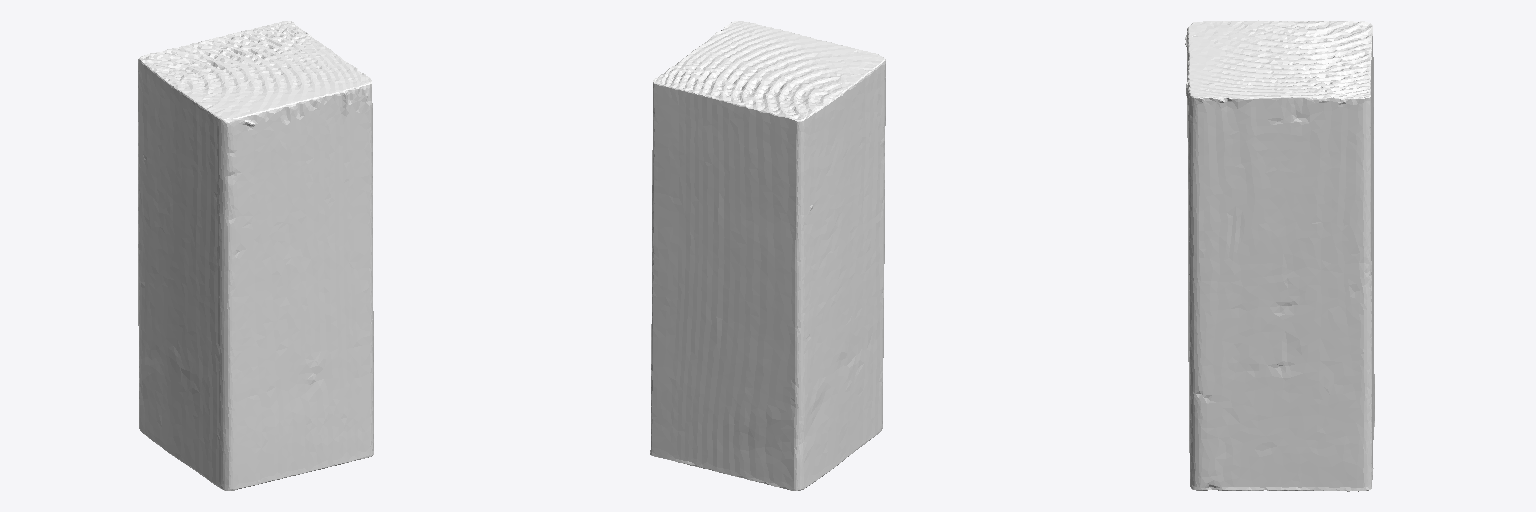
The robot description file, URDF, robot "b_colored_wood_blocks":
<robot name="b_colored_wood_blocks">
	<link name="base_link">
		<visual>
			<origin xyz="0.018821263920805856 0.008818559894969996 -0.012633433800824467" rpy="0.0 0.0 0.0" />
			<geometry>
				<mesh filename="070-b_colored_wood_blocks/google_16k/textured.obj" scale="1 1 1" />
			</geometry>
			<material name="texture">
				<color rgba="1.0 1.0 1.0 1.0" />
			</material>
		</visual>
		<collision>
			<origin xyz="0.018821263920805856 0.008818559894969996 -0.012633433800824467" rpy="0.0 0.0 0.0" />
			<geometry>
				<mesh filename="070-b_colored_wood_blocks/google_16k/textured_vhacd.obj" scale="1 1 1" />
			</geometry>
		</collision>
		<inertial>
			<mass value="0.0108" />
			<inertia ixx="1e-3" ixy="0.0" ixz="0.0" iyy="1e-3" iyz="0.0" izz="1e-3" />
		</inertial>
	</link>
</robot>

--- Facts derived from the render (not from the file) ---
3 views of the same robot in one strip: view 1: azimuth 30°, elevation 25°; view 2: azimuth 150°, elevation 25°; view 3: azimuth 270°, elevation 25° (orthographic).
Model b_colored_wood_blocks with 1 links and 0 joints (none), rooted at base_link, posed all joints at 0.
Links seen in each view (by area): view 1: base_link; view 2: base_link; view 3: base_link.
Link boxes in pixels (bbox=[...]): base_link: bbox=[138, 21, 373, 490]; base_link: bbox=[650, 21, 885, 490]; base_link: bbox=[1185, 20, 1374, 491].
Size in the robot's own frame: 0.0906 by 0.0899 by 0.206 metres.
1 mesh visuals loaded from 1 distinct referenced files (1 OBJ).